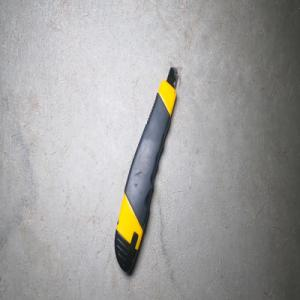Cutter: (113, 65, 178, 273)
